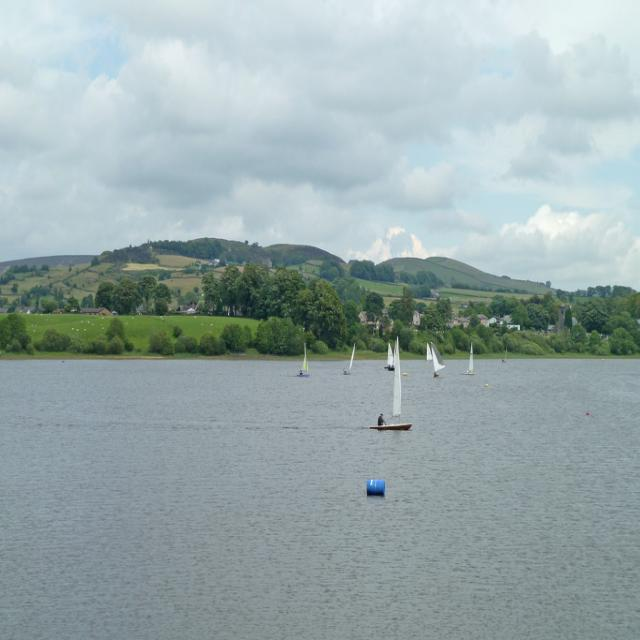Boat: (367, 338, 420, 452), (429, 342, 446, 378), (297, 343, 310, 382), (343, 346, 356, 377), (467, 344, 477, 377), (385, 344, 396, 373), (426, 349, 434, 362), (502, 344, 507, 364)
